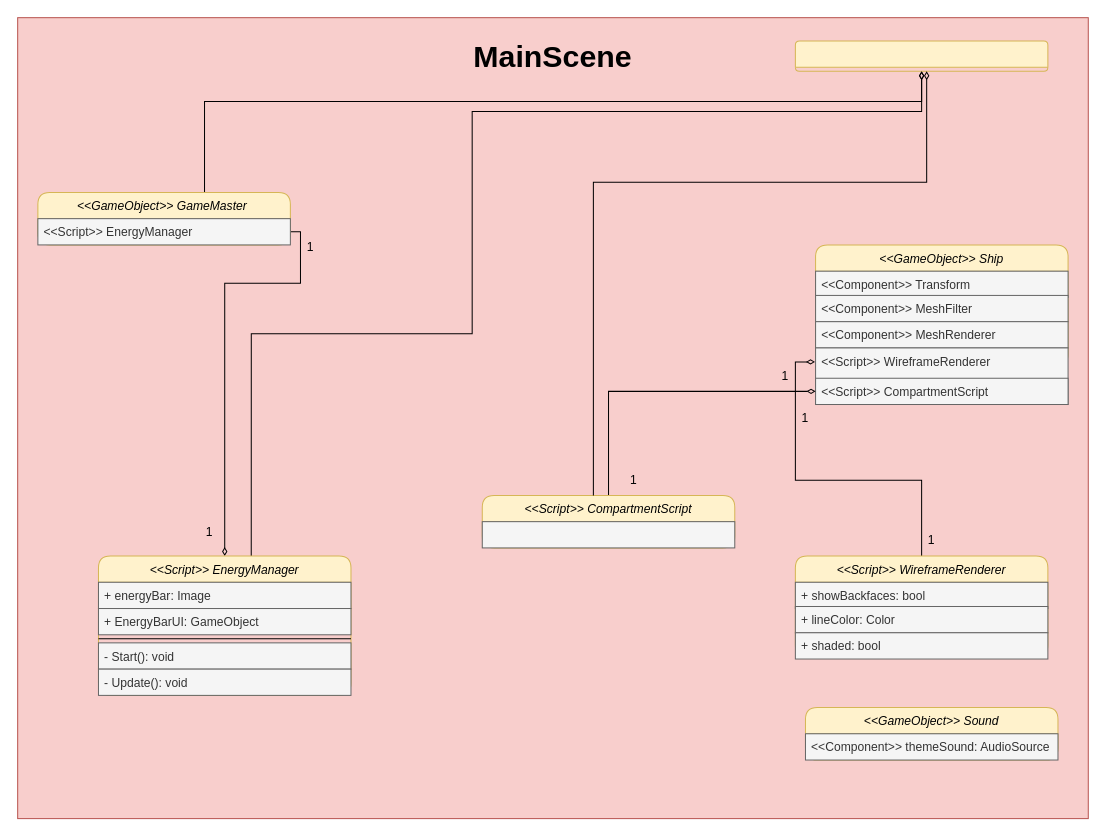
This 1106x836 diagram has some shape labels left out. Each missing label, with the box of its shape:
+ gameSceneToLoad: string: (481, 521, 735, 548)
MonoBehaviour: (794, 40, 1048, 71)
